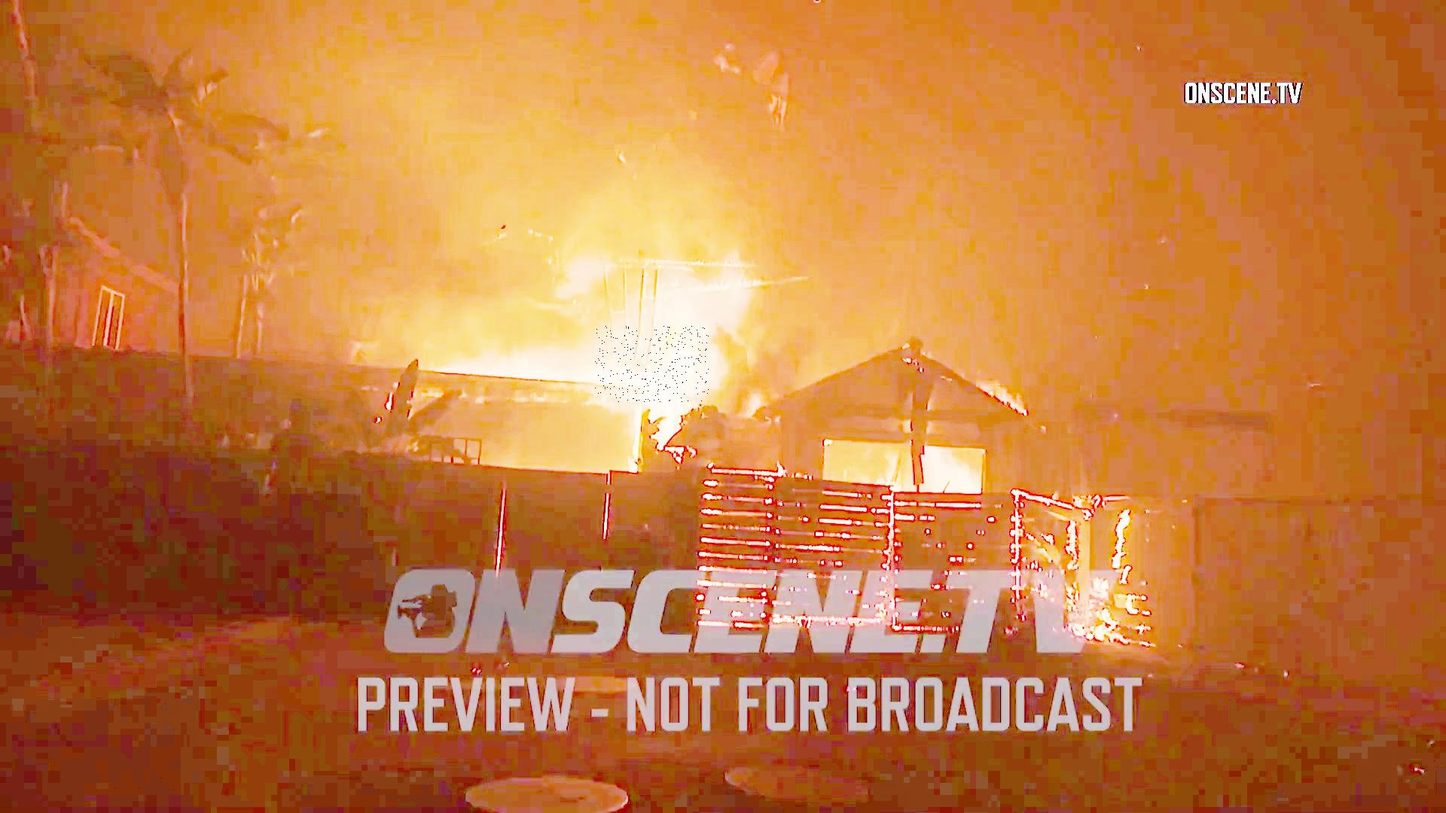fire: (595, 326, 709, 402)
